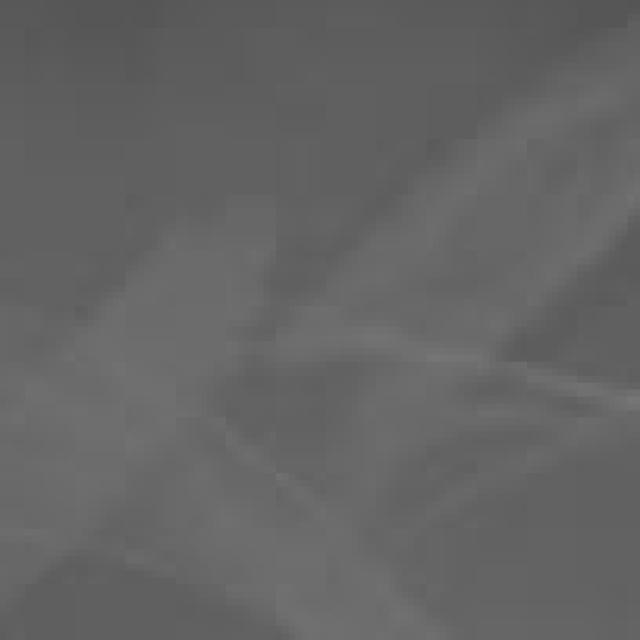fracture: (1, 4, 640, 640)
